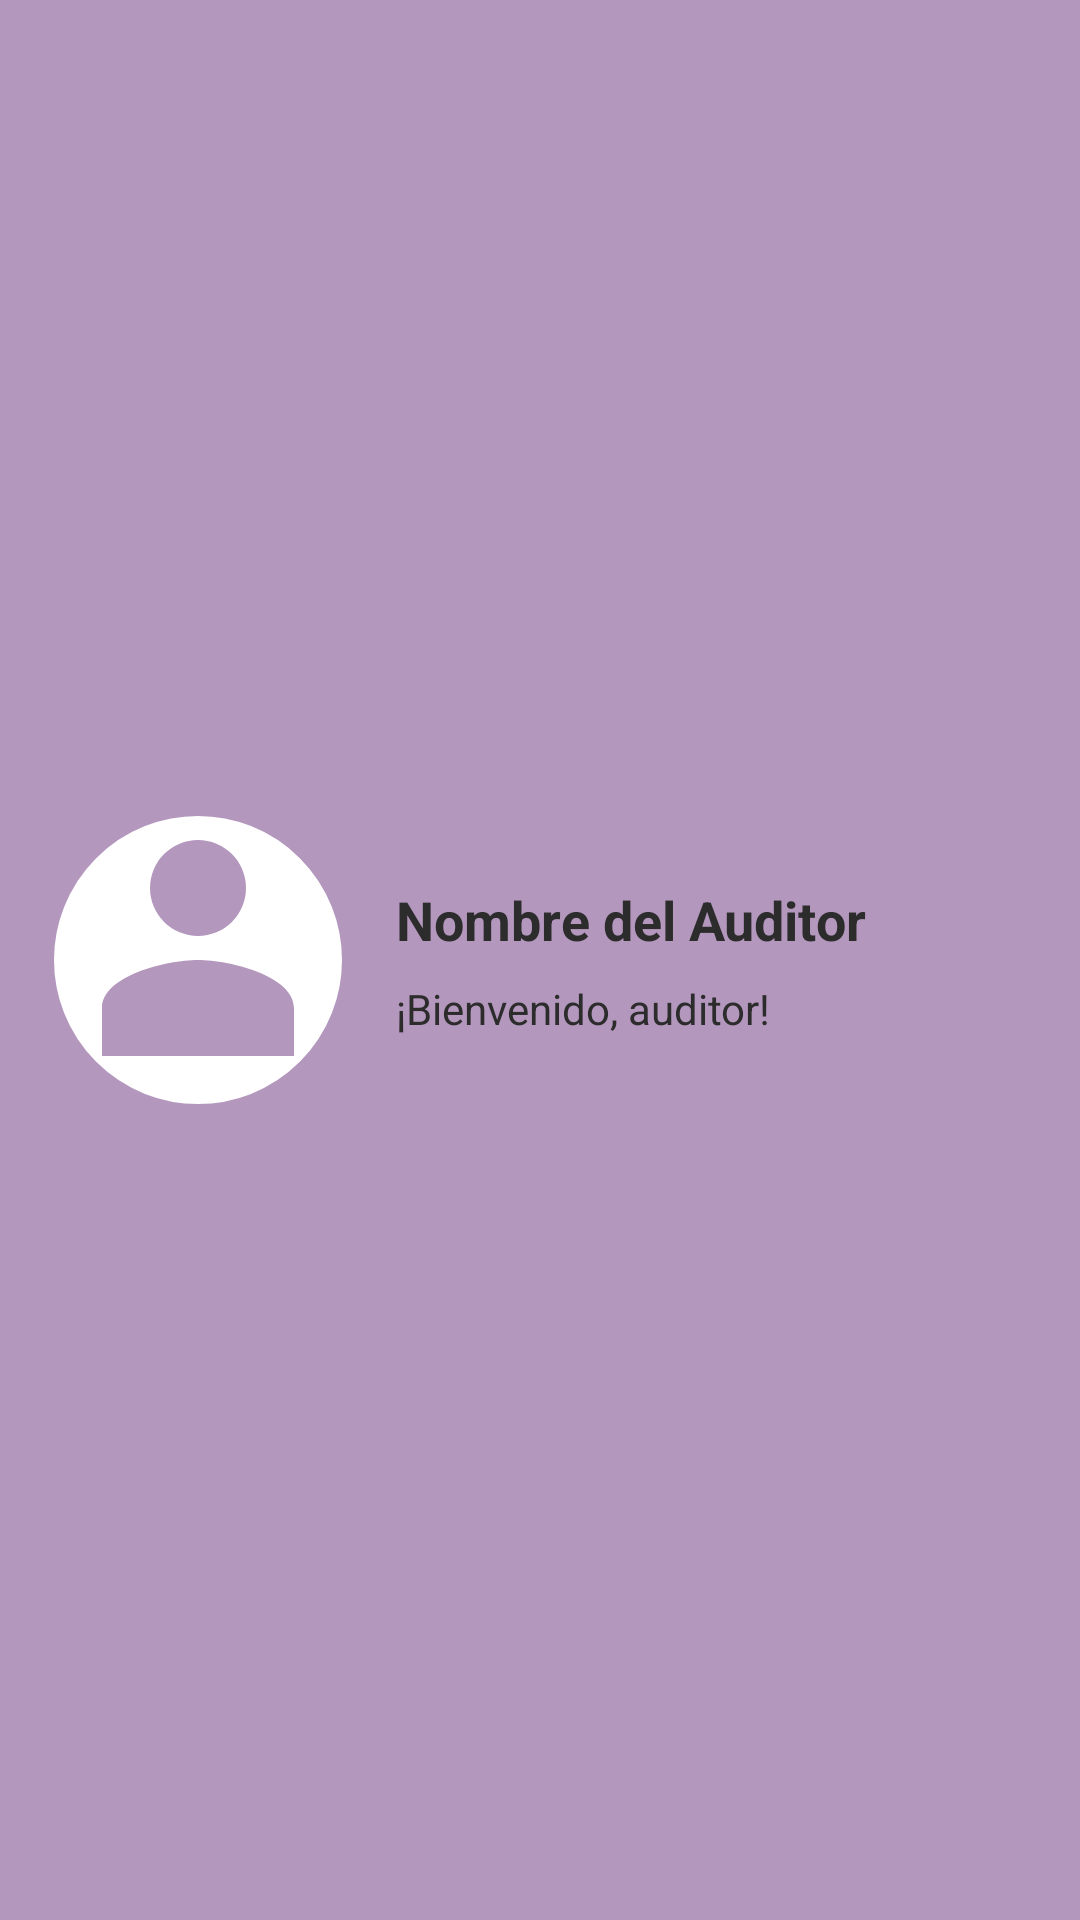

Icons on this 1080×1920 Android screen, each with its box as (x1, y1, x2, y2):
Imagen de usuario: (54, 816, 342, 1104)
